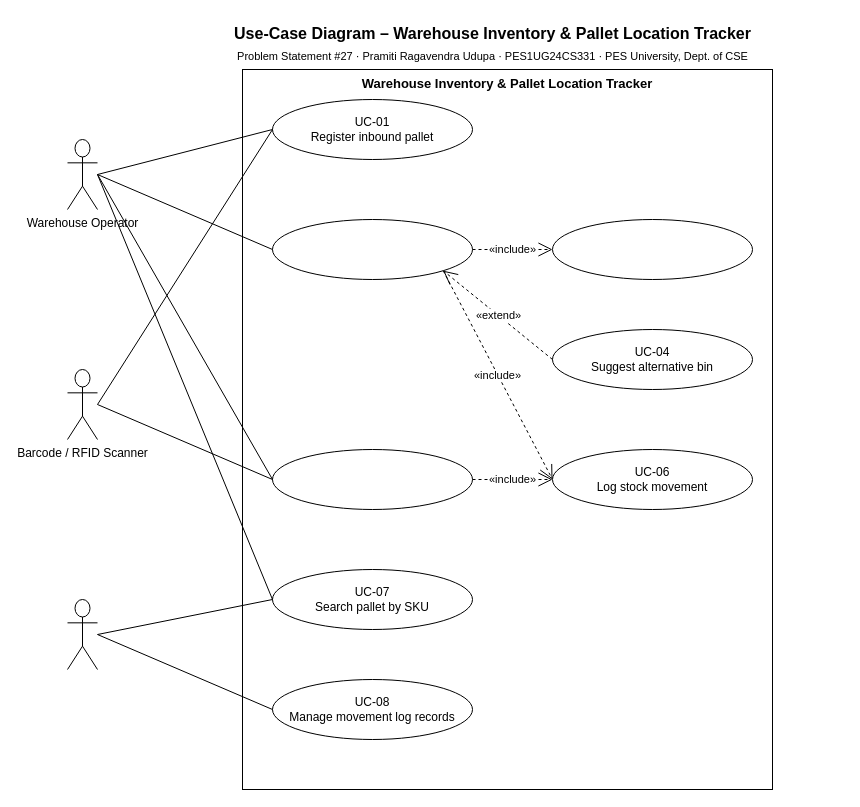
Some shapes in this 860 by 807 pixel diagram are drawn without their labels. Here are the shapes that lost their labels. From the top down, the centre of each, then its label:
point 372,249: UC-02 Store pallet in bin
point 652,249: UC-03 Validate rack load capacity
point 372,479: UC-05 Dispatch pallet
point 82,634: Logistics Supervisor
